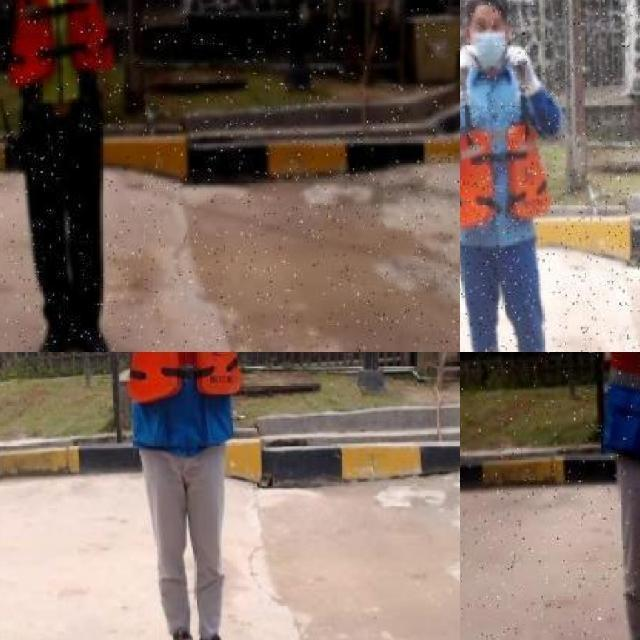apron: (504, 43, 542, 100), (460, 42, 481, 99)
